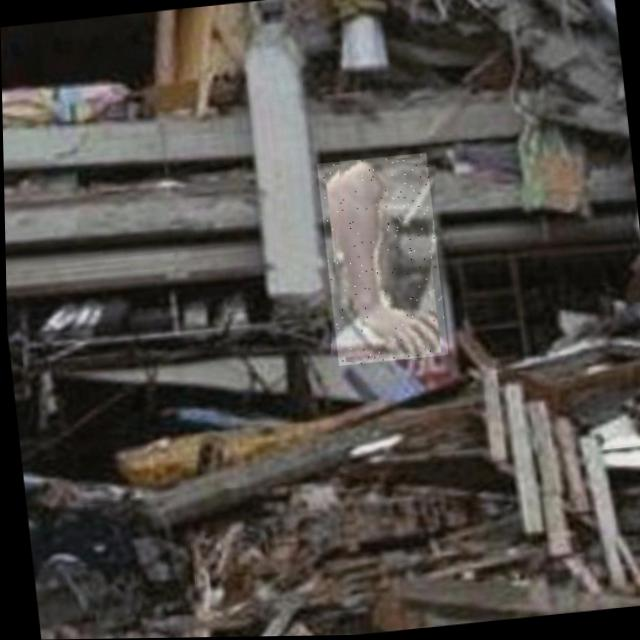Person in Rubble: (316, 153, 446, 367)
